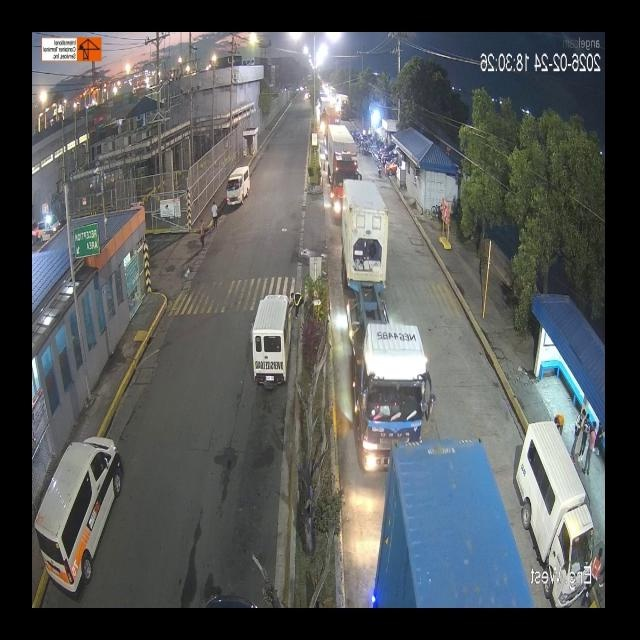car: (516, 416, 616, 610), (35, 426, 135, 592), (246, 286, 296, 407), (225, 166, 249, 216)
truck: (203, 174, 334, 487), (274, 121, 324, 225)
